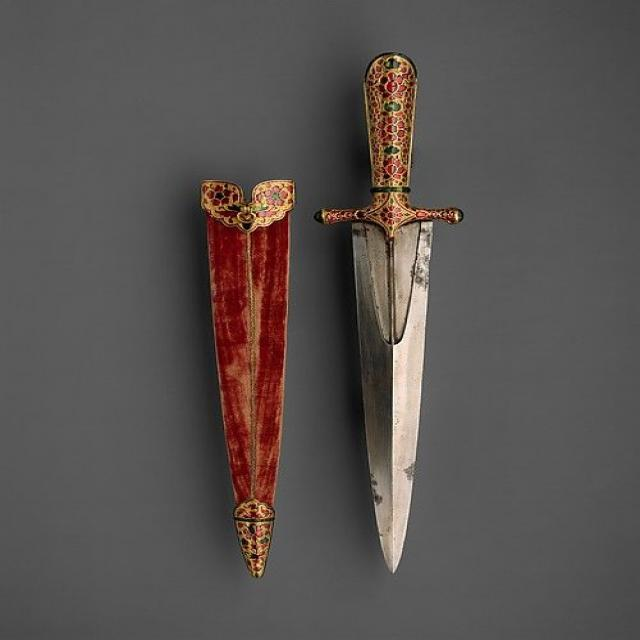short sword: (163, 53, 474, 597)
